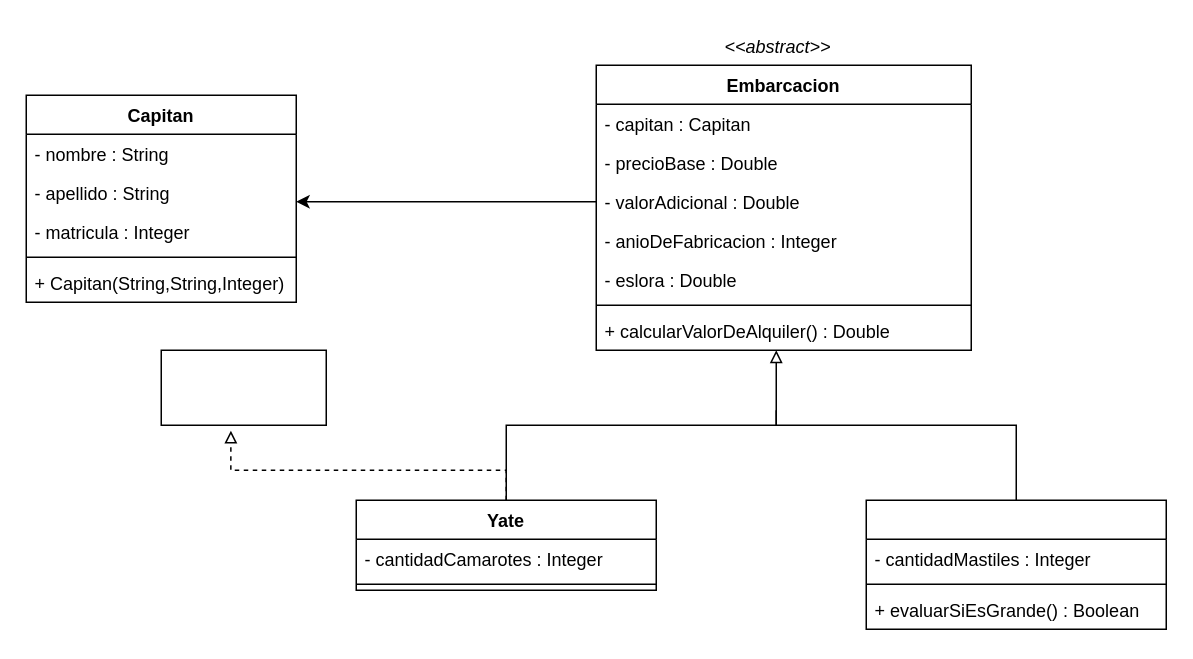
Some shapes in this 1193 by 659 pixel diagram are drawn without their labels. The box of each missing label's shape, as (x1, y1, x2, y2) in pixels:
Velero: (865, 499, 1166, 629)
«interface» Comparable: (160, 349, 326, 425)
